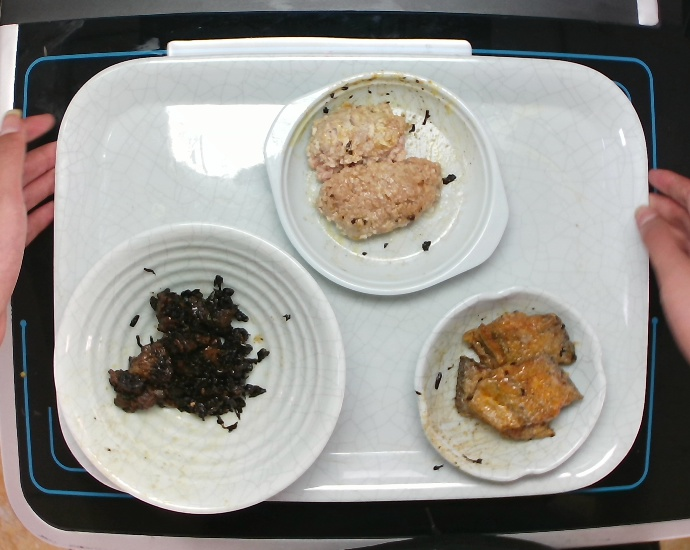JYsf-Ao_Yuan_Wan: (412, 284, 608, 485)
JYsf-Shuang_Er_Pan: (264, 66, 513, 299)
JYsf-Xiao_Tang_Wan: (50, 223, 348, 517)
